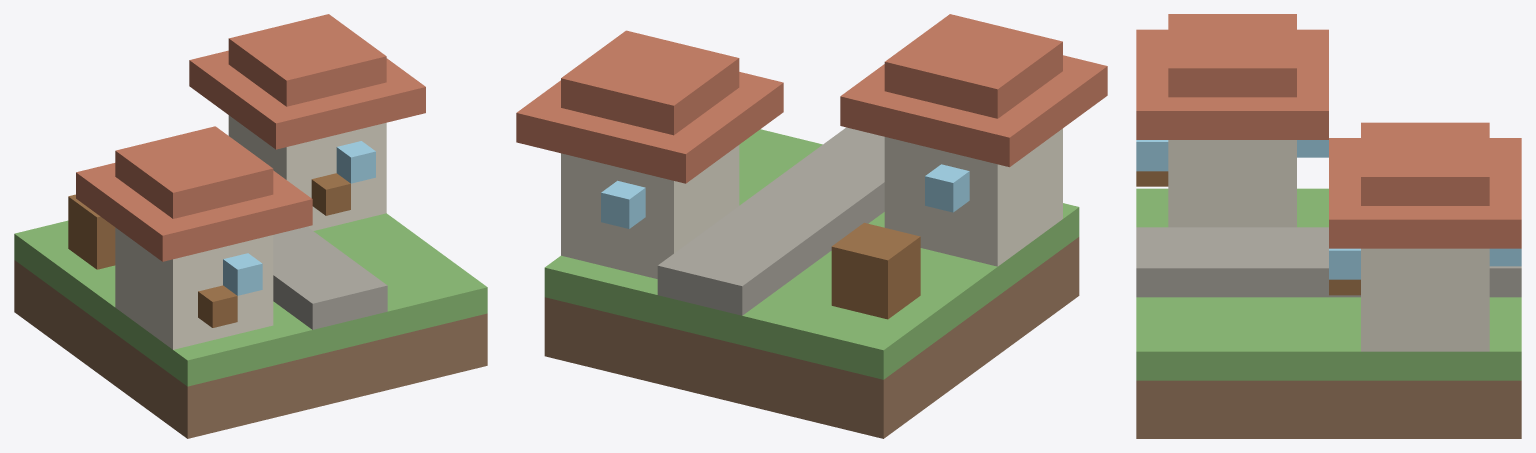
Rendered from city.glb.
3 renders of one model, left to right at view 1: azimuth 30°, elevation 25°; view 2: azimuth 150°, elevation 25°; view 3: azimuth 270°, elevation 25°, orthographic. The views are drawn at different scales.
Visible parts, largest first — view 1: VX_city; view 2: VX_city; view 3: VX_city.
Boxes of the visible parts, box(x1,y1,x2,y2) form: VX_city: box(14, 14, 487, 438); VX_city: box(516, 14, 1107, 438); VX_city: box(1136, 14, 1521, 438).
Bounding box in the file's own units: 3.78 × 2.43 × 3.24.
